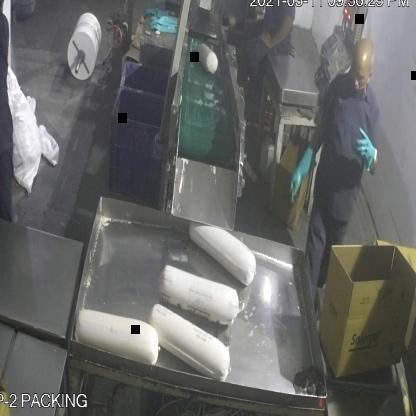glove: (286, 148, 318, 205), (350, 113, 378, 173)
no_glove: (256, 13, 297, 52)
